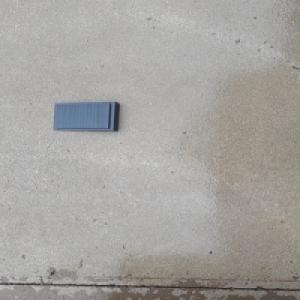PlasticPart: (51, 100, 120, 131)
